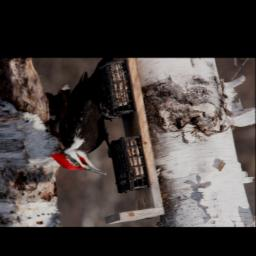Woodpecker: (46, 72, 119, 176)
